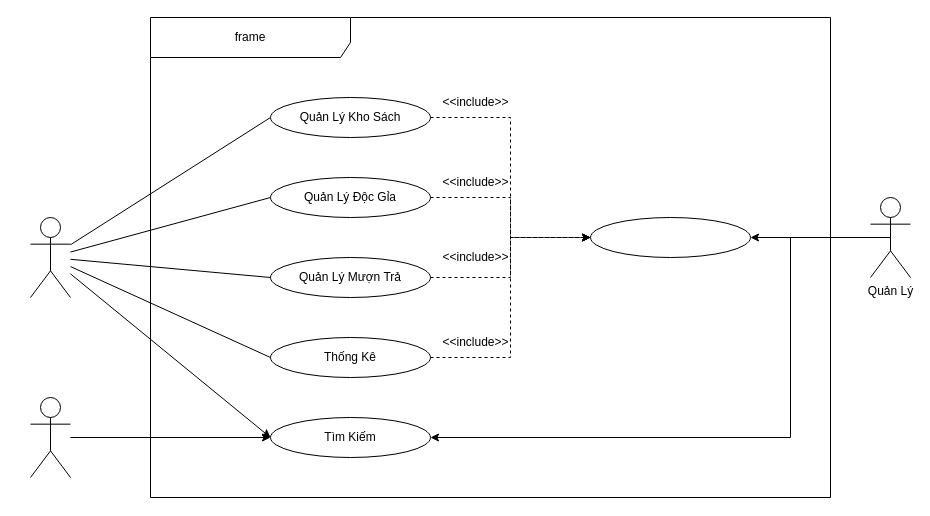
Image size: 930x516. Some labels were removed from this diagram. The shapes that lost their labels are listed below. From the top down, each one's centre as x and y in pixels, then its label:
At point 50,257: "Thủ Thư".
At point 670,237: "Đăng Nhập".
At point 50,437: "Người Dùng".
